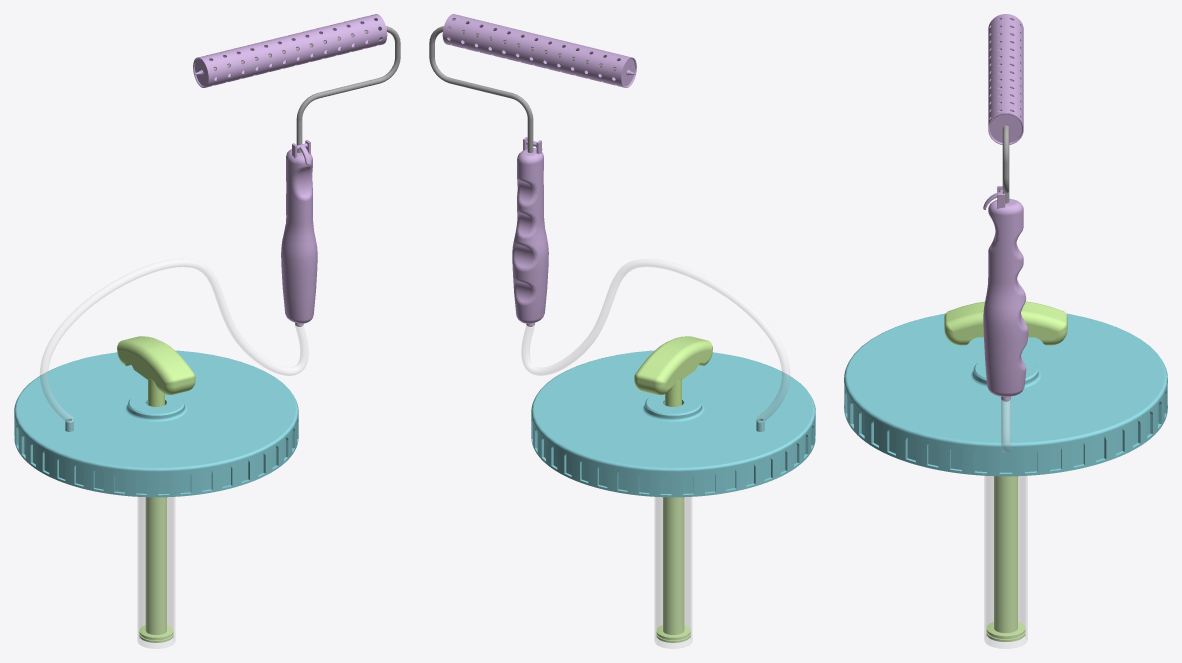
File: car.glb
3 views of the same model, side by side, from view 1: azimuth 30°, elevation 25°; view 2: azimuth 150°, elevation 25°; view 3: azimuth 270°, elevation 25° (orthographic). The views are drawn at different scales.
Bounding box in the file's own units: 0.2981 × 0.4434 × 0.2.
